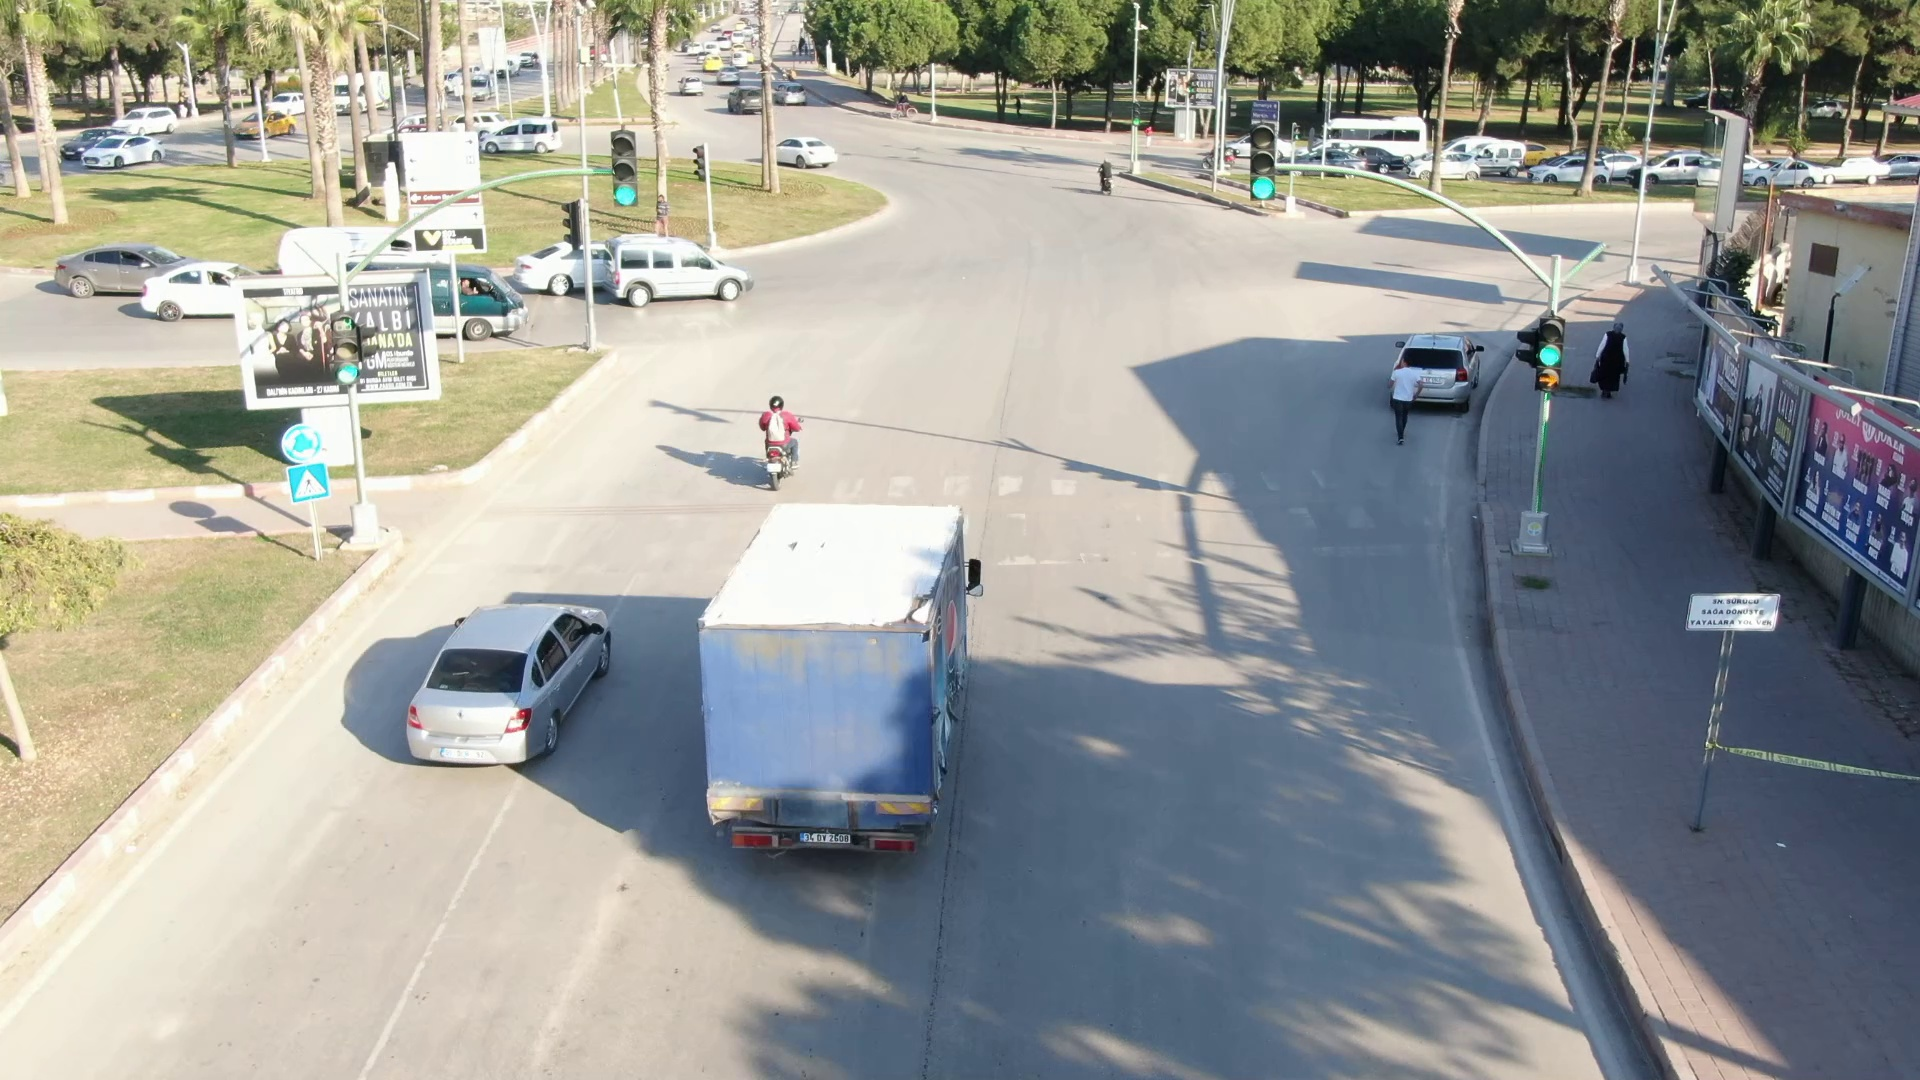car: (390, 542, 621, 780), (598, 231, 756, 311), (47, 236, 206, 303), (77, 131, 186, 175), (774, 132, 845, 171), (675, 68, 710, 98)
person: (750, 384, 815, 477), (1381, 352, 1434, 452), (1587, 311, 1640, 406)
